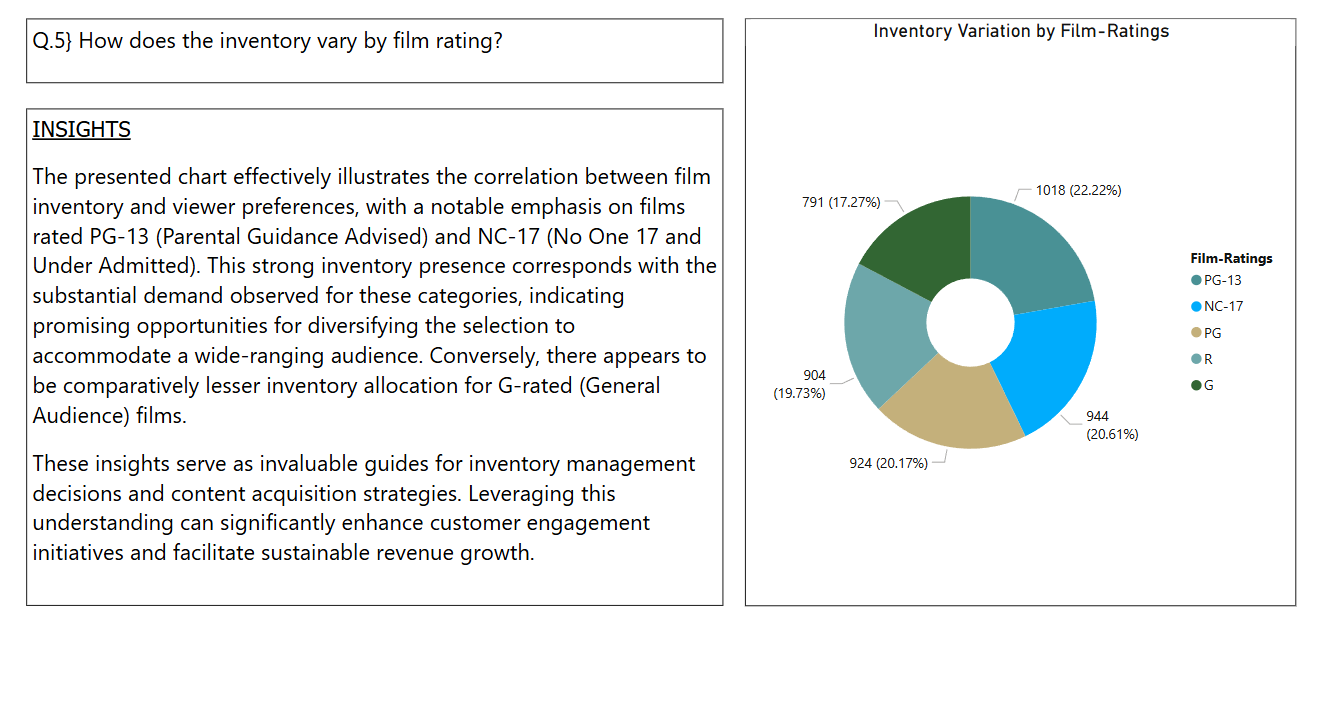

This screenshot's page, from the dashboard's own definition file:
{"tool":"powerbi","page":{"name":"Q5","canvas":[1280,720],"ordinal":10},"visuals":[{"type":"textbox","box":[30.2,26.5,673.2,62.7],"z":0},{"type":"textbox","box":[30.2,113.4,673.2,480.2],"z":1000},{"type":"donutChart","title":"Inventory Variation by Film-Ratings","fields":{"Category":["film.rating"],"Y":["CountNonNull(inventory.inventory_id)"]},"box":[723.9,26.5,532,567],"z":2000}]}

Visuals, with their boxes on the page's 1280x720 design canvas (x1, y1, x2, y2). These are canvas units, not pixel positions in the 1321x707 screenshot, which may show the page scaled, cropped or inside an application window:
textbox: BBox(30, 26, 703, 89)
textbox: BBox(30, 113, 703, 594)
"Inventory Variation by Film-Ratings" donutChart: BBox(724, 26, 1256, 594)
